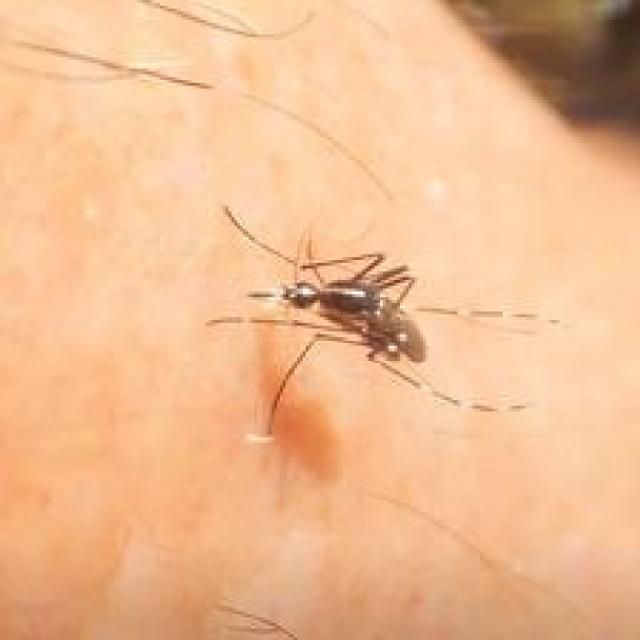Aedes albopictus: (203, 203, 563, 443)
